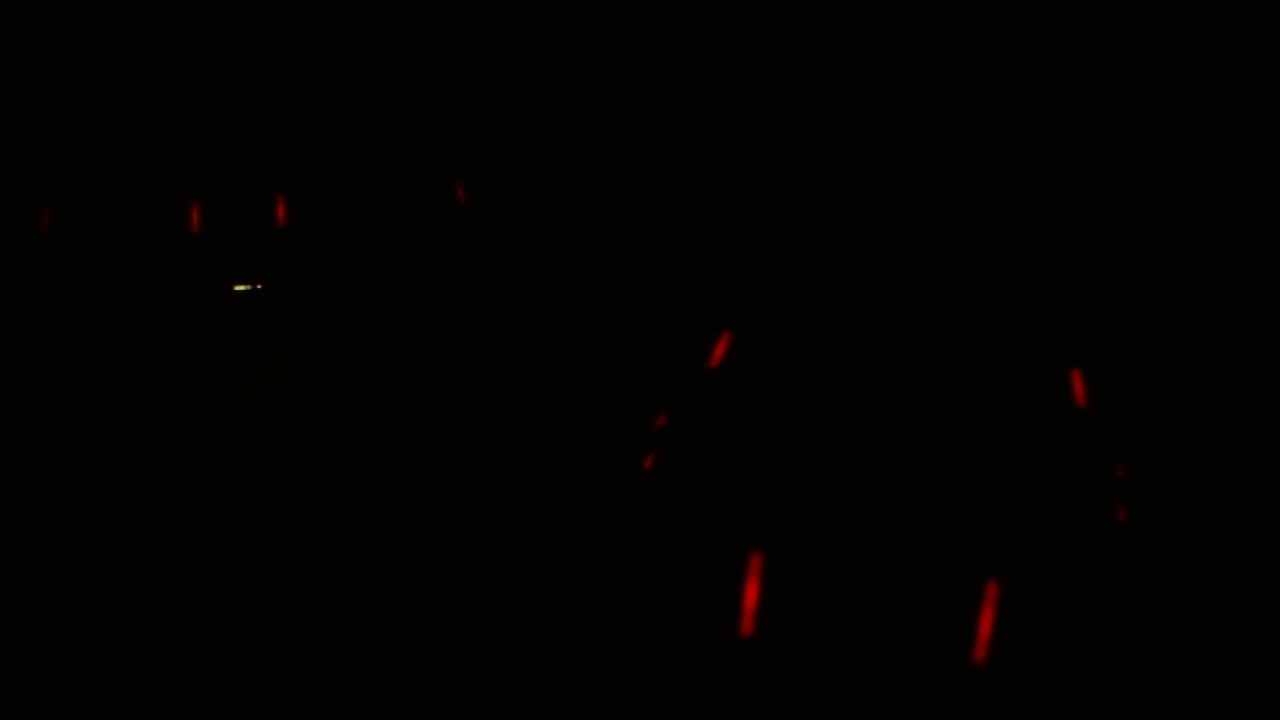pair1: (171, 179, 300, 249)
pair2: (731, 548, 1007, 672)
